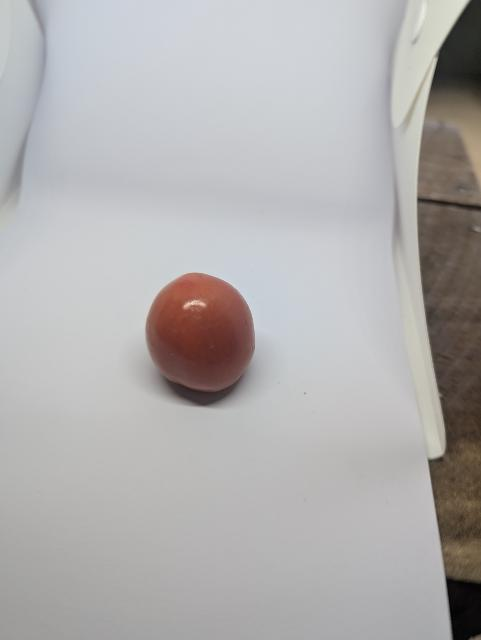red: (137, 259, 263, 402)
